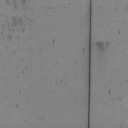surface scratch: (88, 0, 92, 128), (96, 42, 104, 50)
